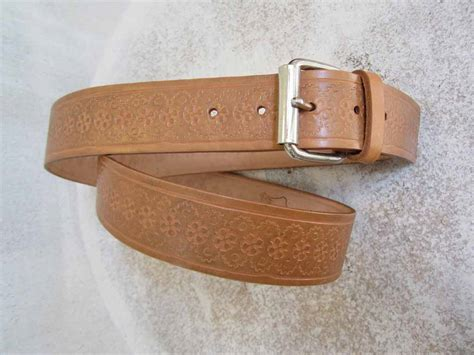cuero: (44, 67, 419, 287)
